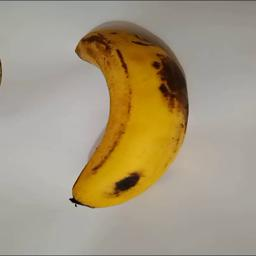Banana Semifresh: (72, 29, 189, 210)
